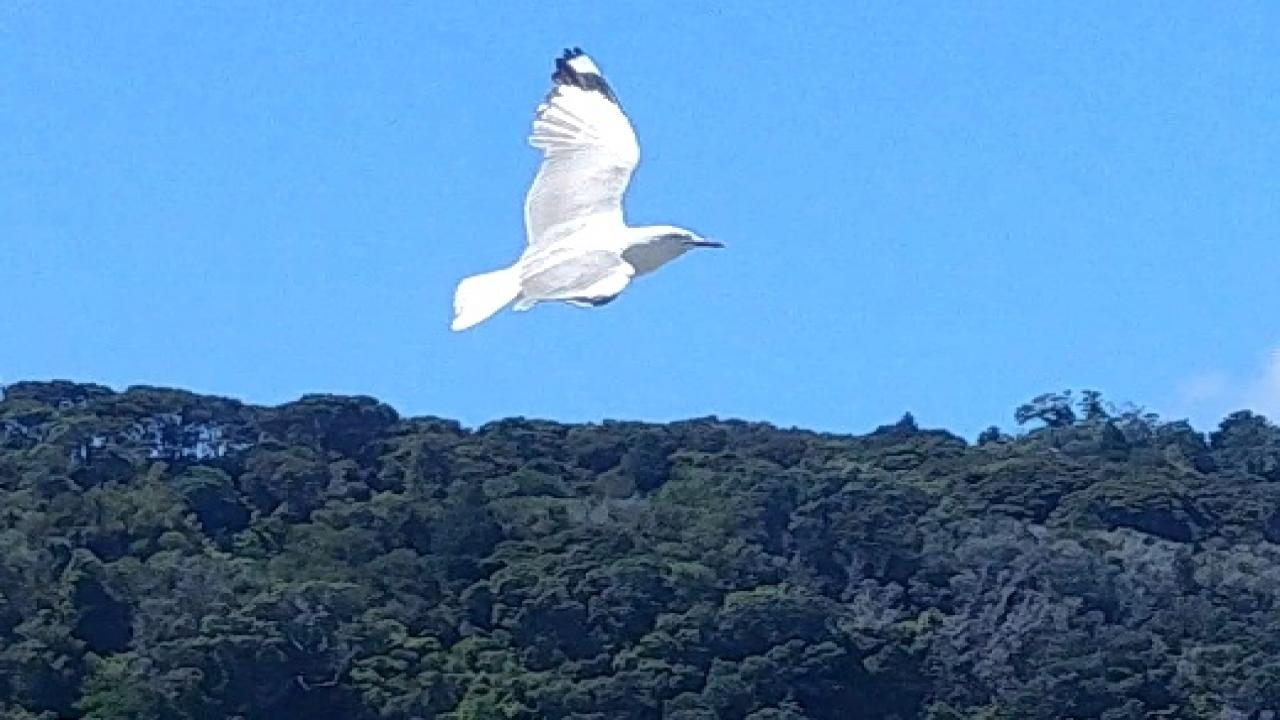Bird: (435, 38, 735, 342)
